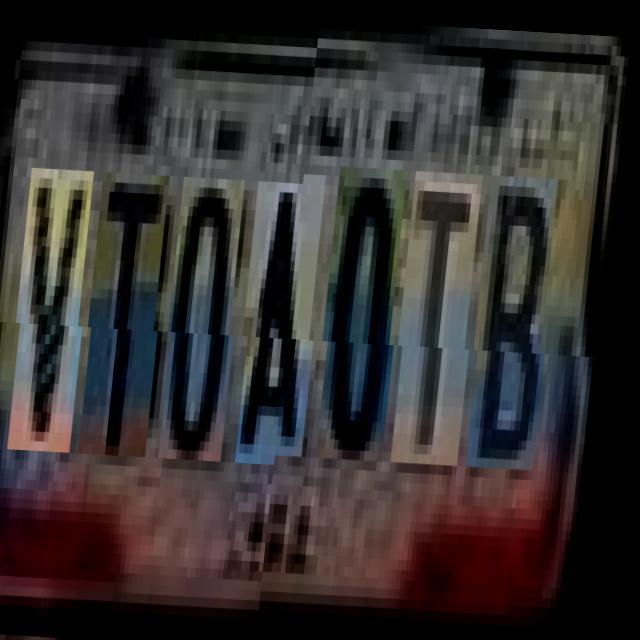A: (244, 178, 333, 462)
B: (475, 179, 565, 473)
O: (324, 172, 414, 466), (168, 174, 253, 458)
T: (400, 176, 490, 470), (89, 171, 178, 455)
V: (17, 168, 102, 452)
